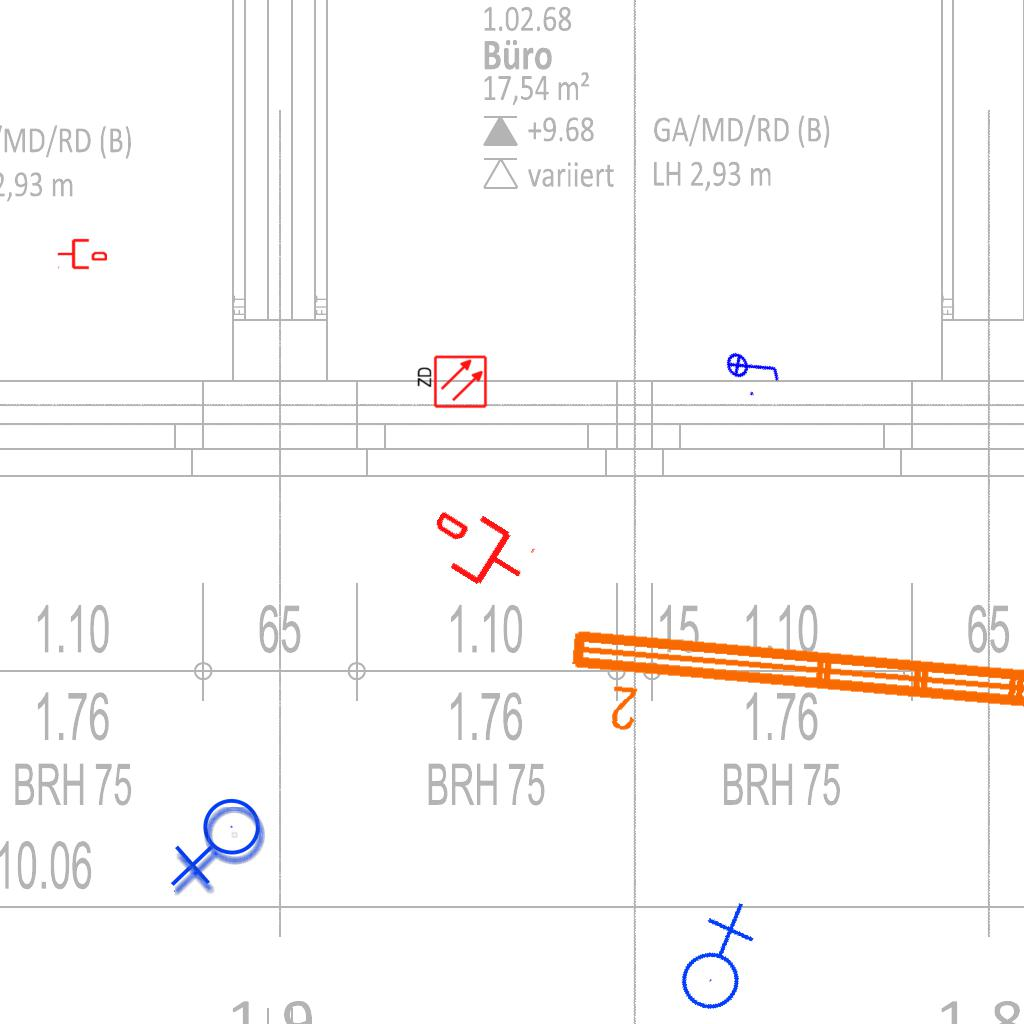Ambulanz_Pendelleuchte_LED: (557, 617, 1024, 797)
Ausschalter_beleuchtet: (718, 331, 788, 403)
Datenanschluss_einfach: (417, 493, 540, 605), (57, 237, 107, 271)
Elektroanschluss_allgemein_230V_Geraeteanschlussdose_230V: (650, 896, 779, 1024), (170, 797, 269, 891), (173, 805, 272, 899)
ZD_Melder_in_Zwischendecke_mit_Revisionsoeffnung_mind_40_x_40_cm: (414, 354, 488, 411)
